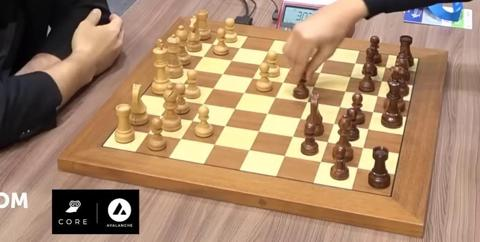xcorner: (265, 47, 272, 54), (347, 73, 354, 80), (297, 115, 304, 122), (170, 95, 177, 102), (354, 164, 361, 171), (382, 63, 388, 70), (352, 59, 358, 66), (323, 55, 329, 62), (294, 51, 300, 58), (237, 44, 244, 50), (378, 77, 384, 84), (287, 65, 294, 71), (258, 60, 264, 67), (229, 56, 235, 63), (201, 52, 207, 59), (374, 92, 380, 99), (342, 88, 349, 94), (311, 83, 317, 90), (280, 79, 287, 85), (250, 74, 256, 81), (220, 70, 227, 76), (191, 66, 198, 72), (304, 99, 311, 105), (242, 89, 248, 96), (181, 80, 187, 87), (331, 120, 337, 127), (265, 110, 271, 117), (233, 105, 239, 112), (201, 100, 207, 107), (360, 144, 366, 151), (256, 128, 263, 134), (223, 122, 229, 129), (190, 117, 197, 123), (158, 112, 165, 118), (318, 158, 324, 165), (282, 152, 288, 159), (247, 146, 253, 153), (146, 129, 152, 136), (210, 40, 216, 46), (317, 69, 323, 75), (370, 109, 376, 115), (337, 104, 343, 110), (273, 94, 279, 100), (211, 85, 217, 91), (365, 126, 371, 132), (325, 139, 331, 145), (290, 133, 296, 139), (213, 141, 219, 147), (179, 135, 185, 141)
